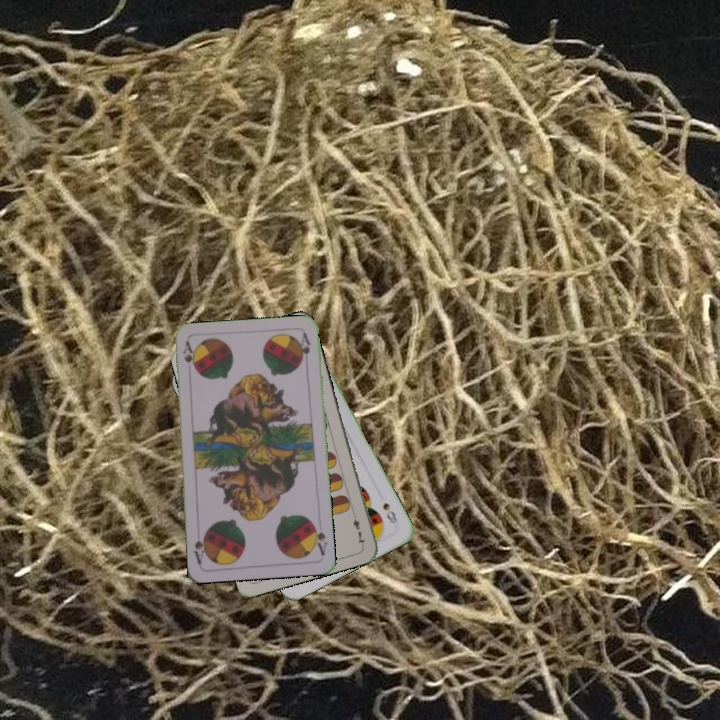E7: (349, 508, 367, 548)
S8: (379, 499, 400, 527)
SA: (308, 518, 330, 558), (179, 338, 197, 371)
